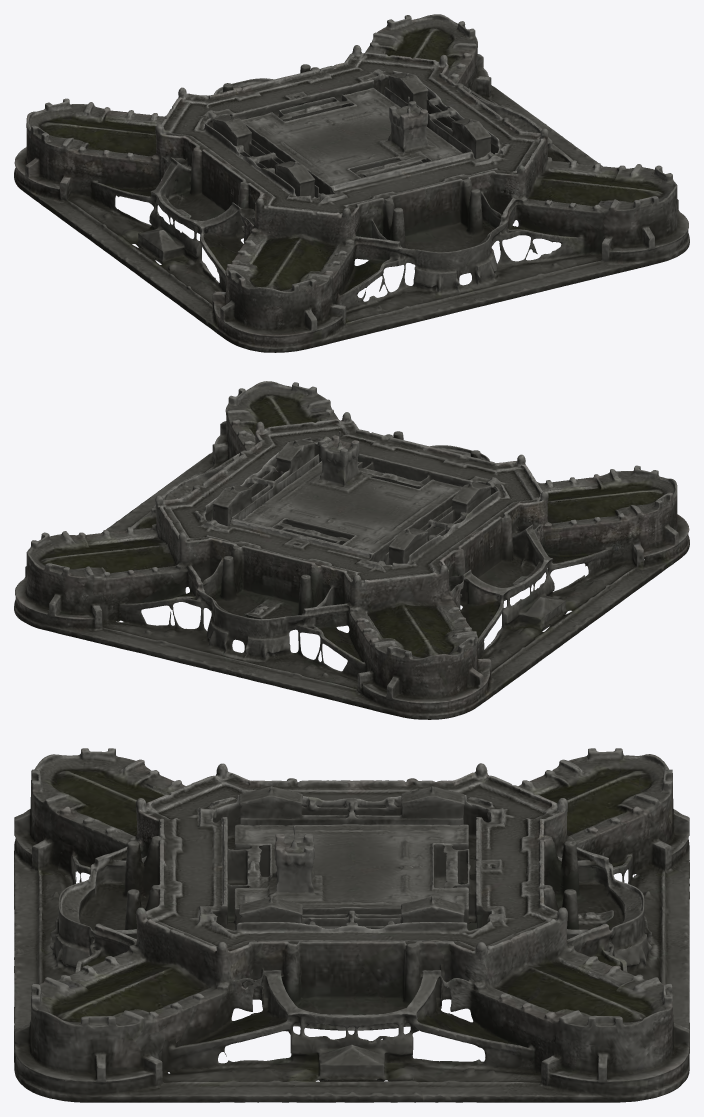
The model's file is fort2.glb.
3 views of the same model, one above another, from view 1: azimuth 30°, elevation 25°; view 2: azimuth 150°, elevation 25°; view 3: azimuth 270°, elevation 25° (orthographic). The views are drawn at different scales.
Size of the model in its own units: 1.9 by 0.4842 by 1.9.
1 material, 1 textured.
